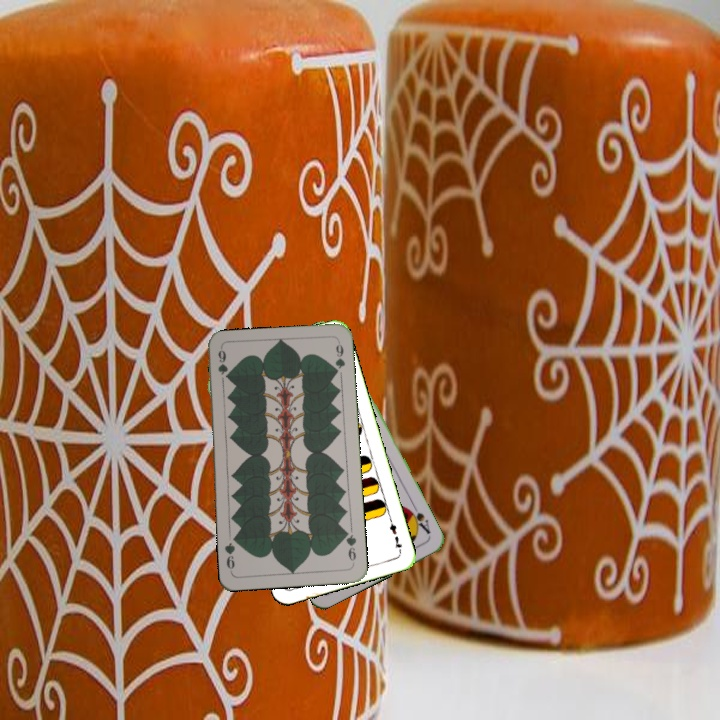E7: (385, 515, 404, 555)
G9: (341, 526, 359, 567), (214, 346, 229, 377)
SA: (404, 501, 433, 537)
